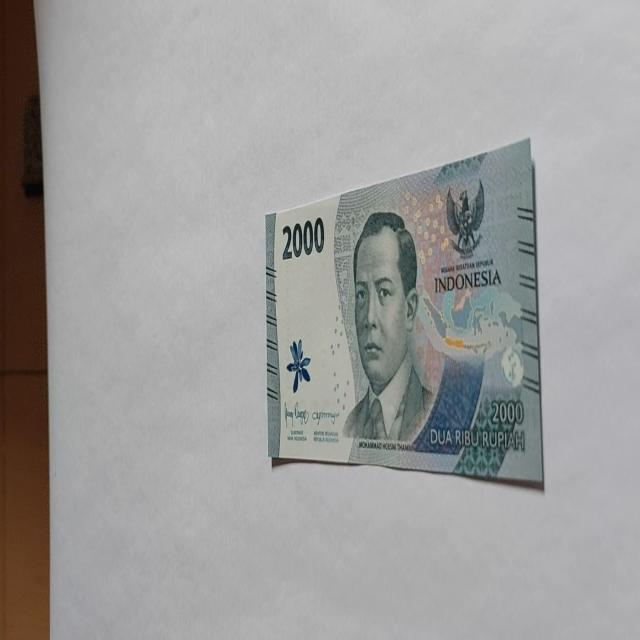dua ribu rupiah: (264, 137, 544, 487), (342, 210, 434, 444)
